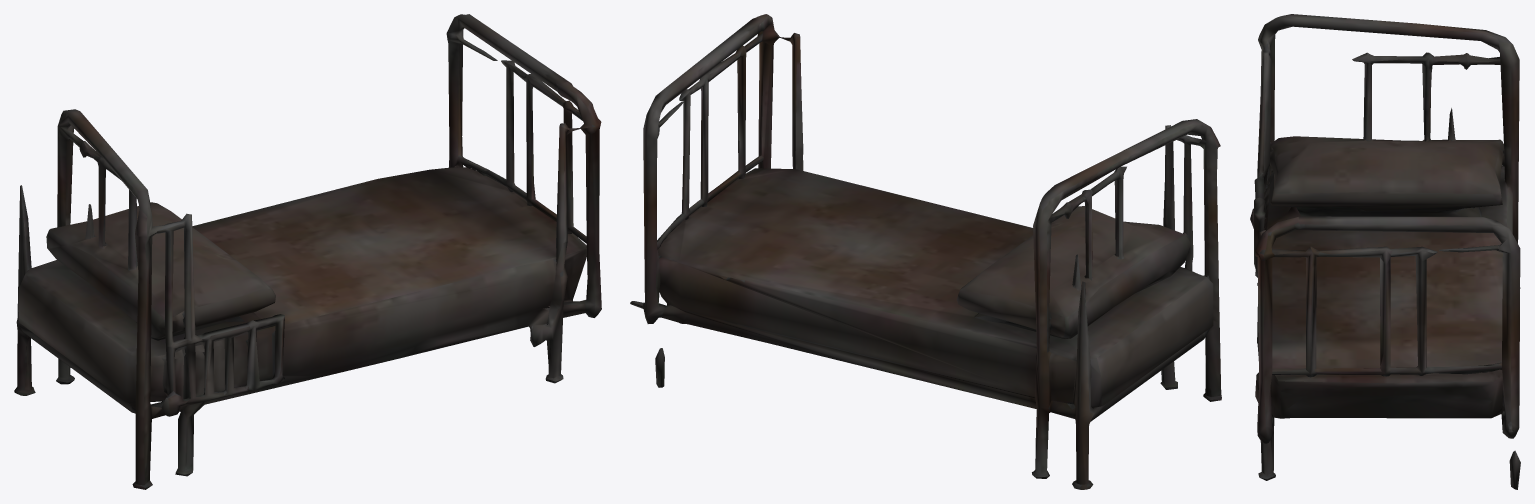
File: worn-iron-asylum-bed-v002.glb
3 renders of one model, left to right at view 1: azimuth 30°, elevation 25°; view 2: azimuth 150°, elevation 25°; view 3: azimuth 270°, elevation 25°, orthographic. The views are drawn at different scales.
Visible parts, largest first — view 1: worn-iron-asylum-bed; view 2: worn-iron-asylum-bed; view 3: worn-iron-asylum-bed.
Boxes of the visible parts, box(x1,y1,x2,y2) form: worn-iron-asylum-bed: box(14, 14, 601, 489); worn-iron-asylum-bed: box(630, 14, 1221, 489); worn-iron-asylum-bed: box(1250, 14, 1520, 489).
Bounding box in the file's own units: 1.96 × 1.15 × 1.01.
1 material, 1 textured.
